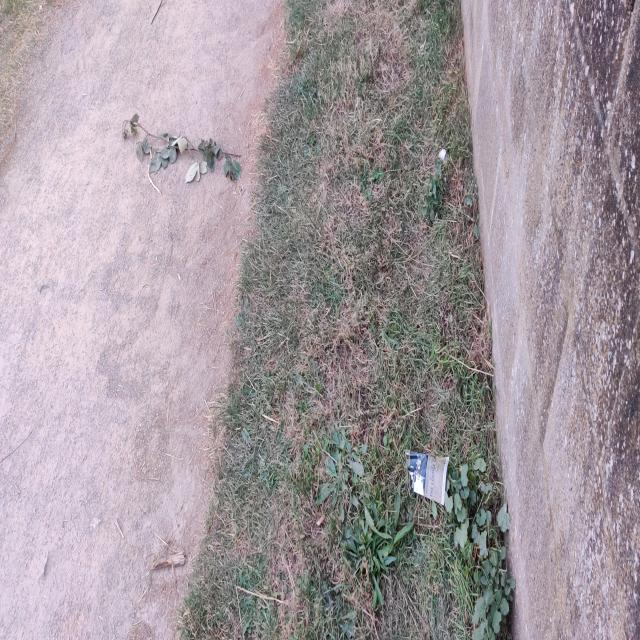litter: (404, 441, 453, 511)
